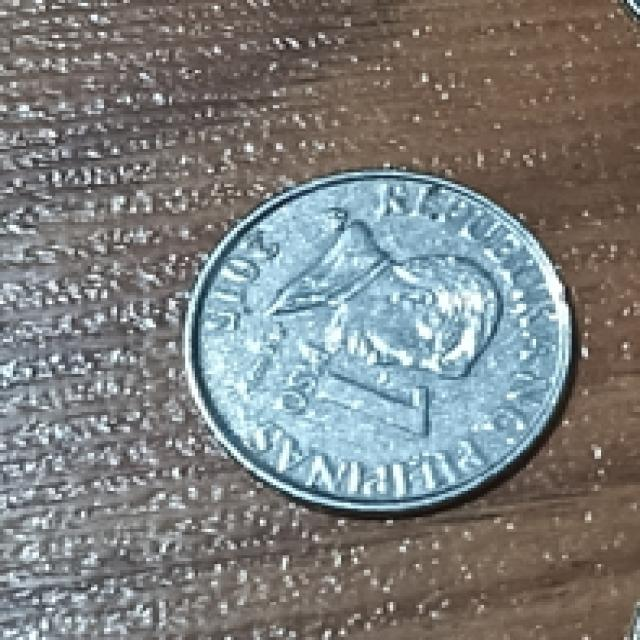1_peso: (185, 172, 569, 511)
